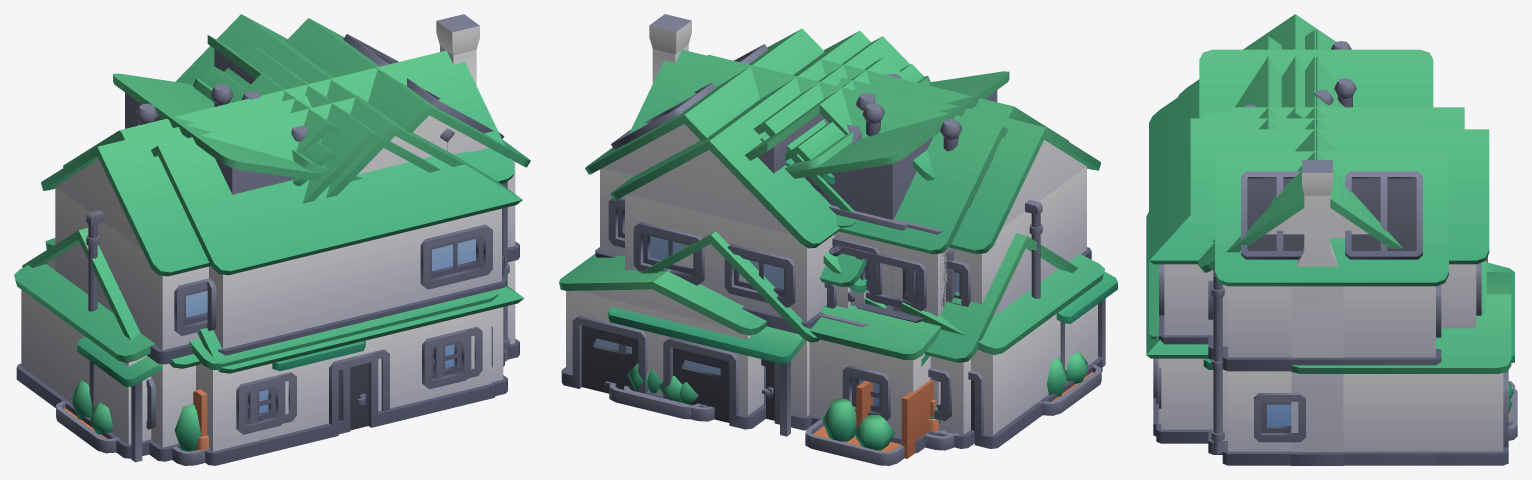
Rendered from kit-suburban.glb.
3 views of the same model, side by side, from view 1: azimuth 30°, elevation 25°; view 2: azimuth 150°, elevation 25°; view 3: azimuth 270°, elevation 25° (orthographic). The views are drawn at different scales.
Visible parts, largest first — view 1: building-type-f, building-type-t, building-type-n, building-type-d, building-type-b, building-type-m, building-type-k, building-type-s, building-type-u, building-type-r, fence-3x3, building-type-e (+1 smaller); view 2: building-type-n, building-type-f, building-type-d, building-type-b, building-type-t, building-type-e, building-type-k, building-type-m, building-type-o, building-type-r, building-type-s, building-type-j (+6 smaller); view 3: building-type-b, building-type-f, building-type-d, building-type-n, building-type-k, building-type-u, building-type-m, building-type-r, building-type-t, building-type-s, building-type-o, building-type-e.
Part boxes in pixels (x1=…): building-type-f: x1=137, y1=14, x2=522, y2=465; building-type-t: x1=45, y1=57, x2=498, y2=465; building-type-n: x1=41, y1=96, x2=365, y2=462; building-type-d: x1=14, y1=14, x2=514, y2=458; building-type-b: x1=22, y1=18, x2=530, y2=453; building-type-m: x1=197, y1=285, x2=524, y2=449; building-type-k: x1=113, y1=73, x2=357, y2=194; building-type-s: x1=224, y1=44, x2=440, y2=203; building-type-u: x1=263, y1=39, x2=495, y2=197; building-type-r: x1=207, y1=35, x2=339, y2=153; fence-3x3: x1=193, y1=389, x2=208, y2=450; building-type-e: x1=63, y1=66, x2=269, y2=167; building-type-n: x1=559, y1=77, x2=1117, y2=446; building-type-f: x1=608, y1=59, x2=1068, y2=436; building-type-d: x1=621, y1=14, x2=1104, y2=448; building-type-b: x1=585, y1=28, x2=1101, y2=448; building-type-t: x1=623, y1=54, x2=1007, y2=465; building-type-e: x1=685, y1=56, x2=1007, y2=366; building-type-k: x1=788, y1=71, x2=1009, y2=290; building-type-m: x1=609, y1=231, x2=819, y2=419; building-type-o: x1=690, y1=56, x2=913, y2=240; building-type-r: x1=745, y1=56, x2=908, y2=326; building-type-s: x1=753, y1=36, x2=909, y2=211; building-type-j: x1=819, y1=246, x2=965, y2=430; building-type-b: x1=1211, y1=151, x2=1448, y2=465; building-type-f: x1=1149, y1=36, x2=1514, y2=443; building-type-d: x1=1198, y1=47, x2=1402, y2=465; building-type-n: x1=1178, y1=14, x2=1511, y2=465; building-type-k: x1=1199, y1=49, x2=1433, y2=118; building-type-u: x1=1190, y1=129, x2=1424, y2=442; building-type-m: x1=1146, y1=212, x2=1517, y2=443; building-type-r: x1=1230, y1=90, x2=1464, y2=129; building-type-t: x1=1149, y1=30, x2=1514, y2=436; building-type-s: x1=1190, y1=104, x2=1424, y2=369; building-type-o: x1=1316, y1=72, x2=1357, y2=198; building-type-e: x1=1316, y1=30, x2=1361, y2=202.
Bounding box in the file's own units: 1.83 × 1.24 × 1.43.
Materials: 1 (1 with a texture image).
